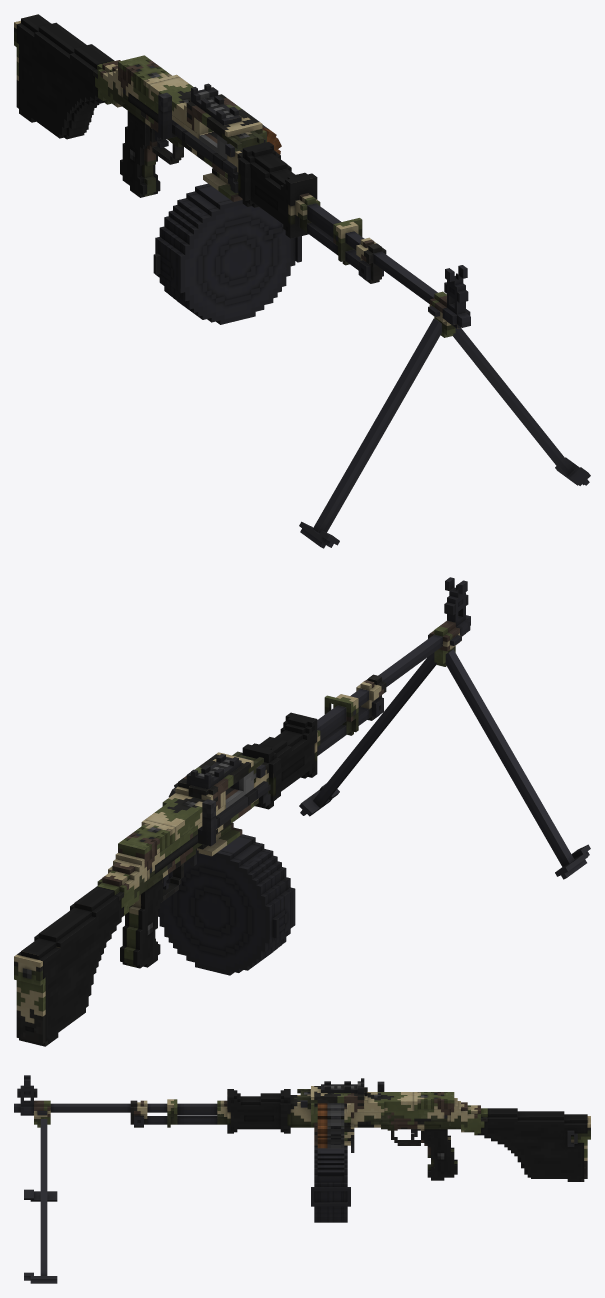
File: RD_RPD_MILITARY1945.glb
The picture shows the model from 3 angles, top to bottom: view 1: azimuth 30°, elevation 25°; view 2: azimuth 150°, elevation 25°; view 3: azimuth 270°, elevation 25°; orthographic projection. The views are drawn at different scales.
Parts seen in each view (by area): view 1: RPD, RPD_CLIP, RPD_BODY_COVER, RPD_DIPOD_LEG1, RPD_DIPOD_LEG2, RPD_BOLT; view 2: RPD, RPD_CLIP, RPD_BODY_COVER, RPD_DIPOD_LEG1, RPD_DIPOD_LEG2, RPD_BOLT; view 3: RPD, RPD_BODY_COVER, RPD_CLIP, RPD_DIPOD_LEG2, RPD_CLIP_COVER, RPD_DIPOD_LEG1.
Part boxes in pixels (box(x1,y1,x2,y2)): RPD: box(14, 14, 470, 337); RPD_CLIP: box(153, 183, 301, 324); RPD_BODY_COVER: box(120, 57, 263, 151); RPD_DIPOD_LEG1: box(299, 318, 441, 548); RPD_DIPOD_LEG2: box(453, 328, 590, 485); RPD_BOLT: box(158, 92, 238, 193); RPD: box(14, 577, 470, 1046); RPD_CLIP: box(158, 834, 295, 975); RPD_BODY_COVER: box(121, 751, 263, 861); RPD_DIPOD_LEG1: box(445, 649, 590, 879); RPD_DIPOD_LEG2: box(299, 652, 436, 816); RPD_BOLT: box(198, 781, 270, 846); RPD: box(14, 1075, 590, 1181); RPD_BODY_COVER: box(297, 1078, 450, 1112); RPD_CLIP: box(311, 1145, 350, 1222); RPD_DIPOD_LEG2: box(24, 1119, 57, 1283); RPD_CLIP_COVER: box(317, 1148, 344, 1176); RPD_DIPOD_LEG1: box(24, 1189, 57, 1201).
Size of the model in its own units: 0.6023 by 0.5346 by 1.7.
1 material, 1 textured.
